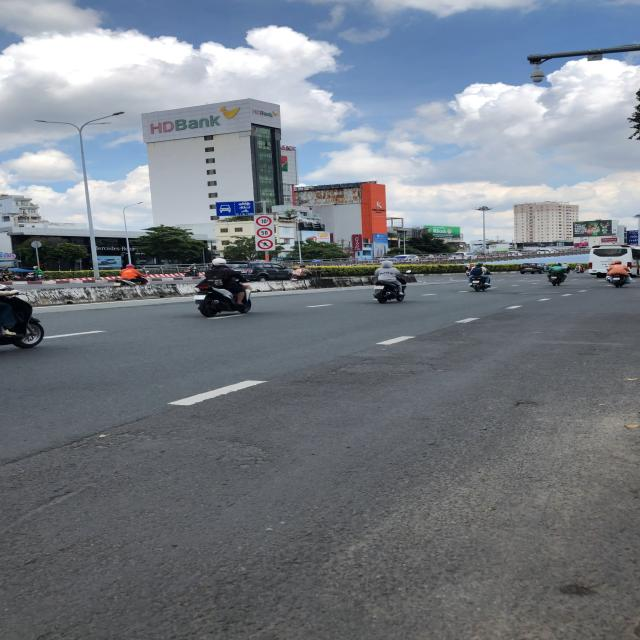Bien bao cam nguoi di bo: (256, 238, 276, 250)
Bien bao toc do toi da cho phep: (256, 227, 276, 238)
